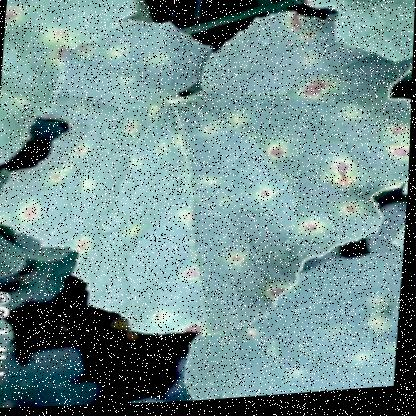AlternariaBrassicicola: (295, 77, 340, 107), (329, 162, 363, 196), (17, 198, 49, 228), (378, 147, 410, 173), (226, 252, 253, 273), (336, 206, 364, 224), (265, 146, 291, 163), (181, 325, 210, 340), (299, 224, 324, 241), (73, 236, 96, 254), (71, 143, 95, 160), (181, 268, 207, 283), (386, 130, 411, 145), (120, 123, 141, 140), (47, 171, 72, 185), (256, 191, 274, 205)
